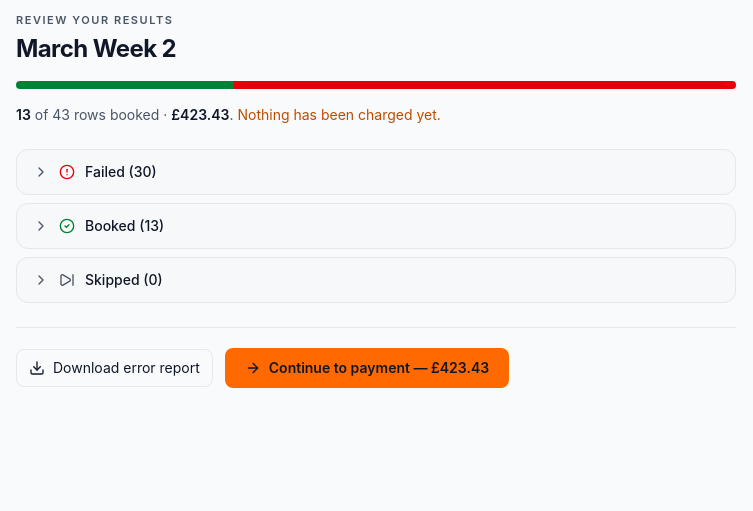
a failed row shows its specific error, not a generic one
This screenshot has width=753, height=511.
Click the button "Failed (30)": (105, 171) [17, 150, 735, 194]
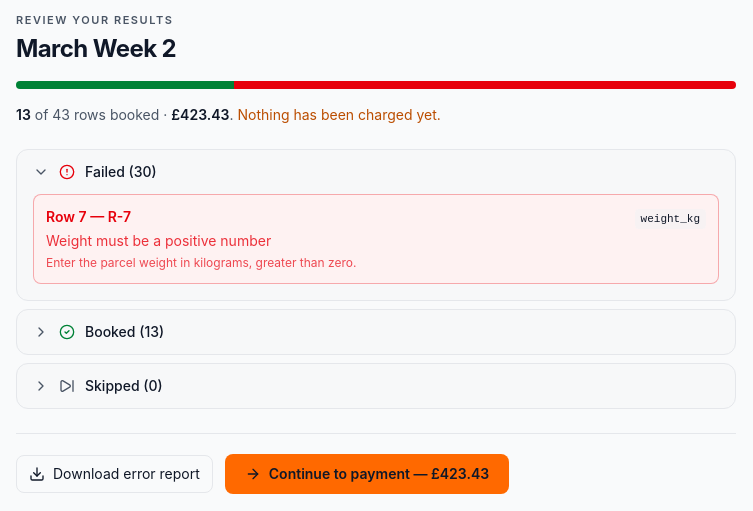
Expected: the text "Weight must be a positive number" is shown, [46, 232, 271, 249]
